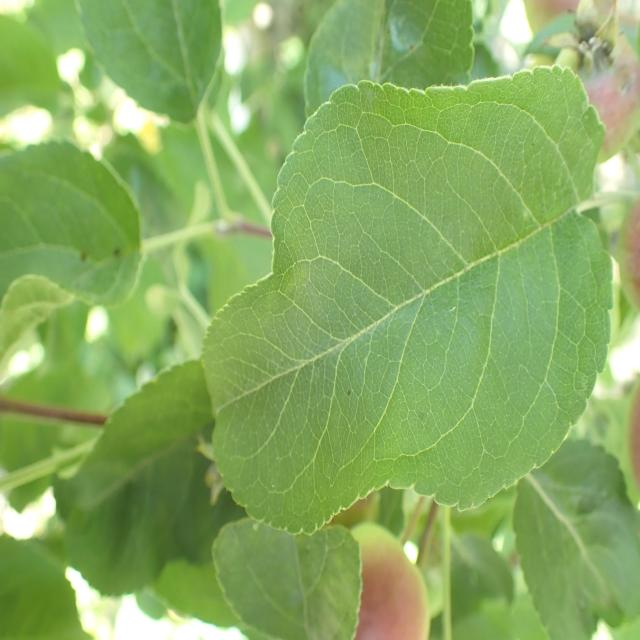healthy: (200, 63, 613, 535), (511, 437, 640, 640), (0, 138, 143, 309), (303, 0, 475, 121), (74, 0, 224, 125), (212, 517, 362, 640)
